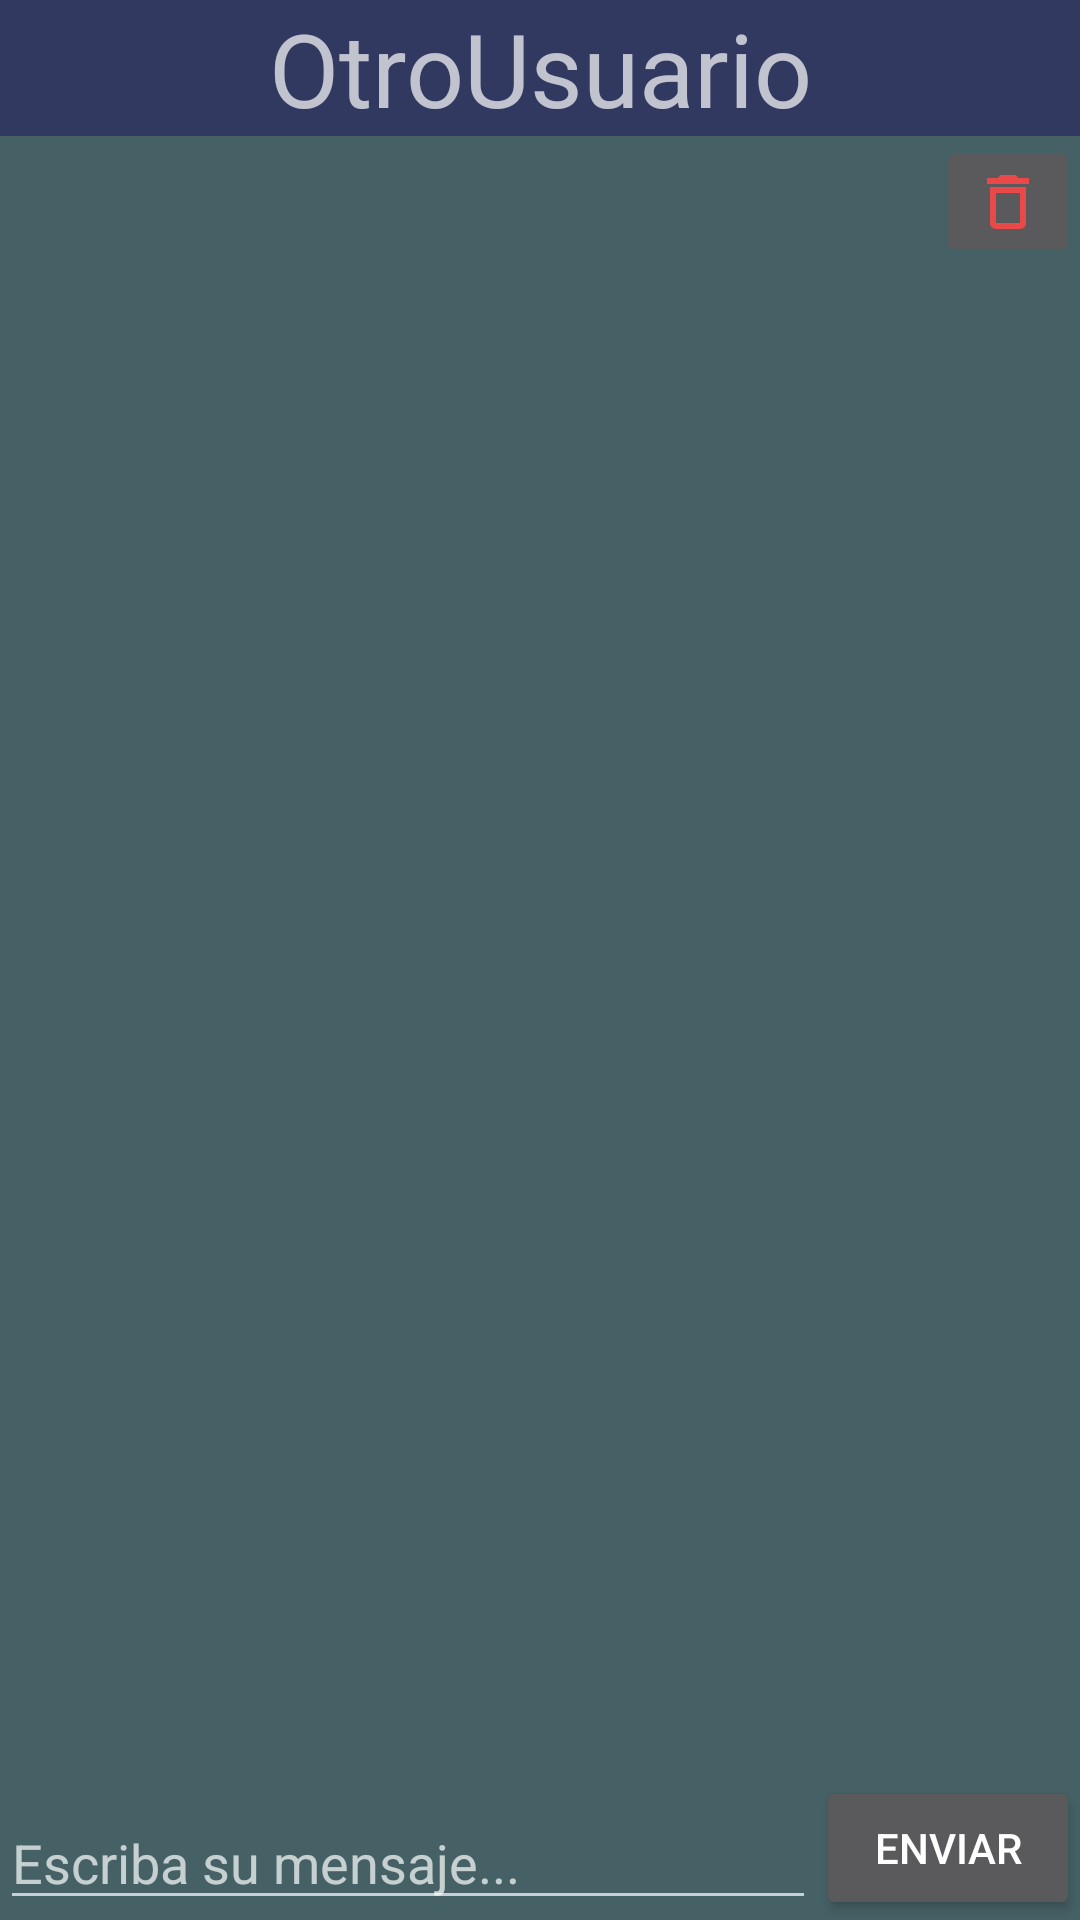

Icon bounding boxes for this 1080x1920 phone screenshot, format (x1, y1, x2, y2):
borrarconver: (948, 154, 1068, 250)
